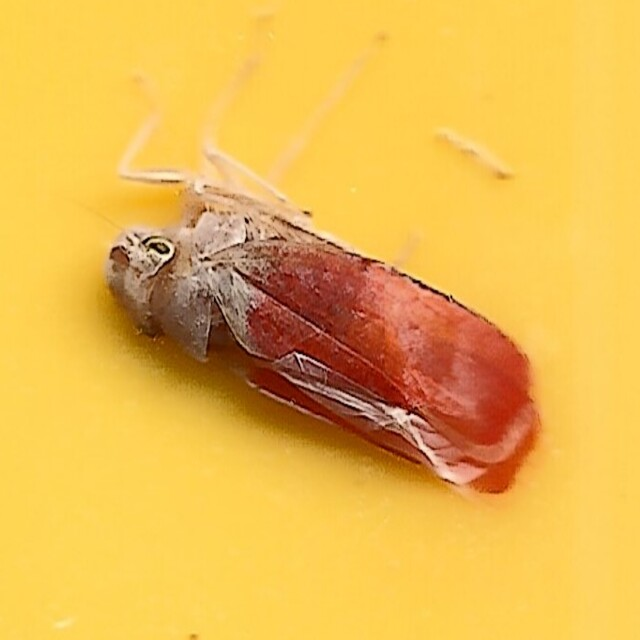Hemiptera: (94, 139, 546, 501)
